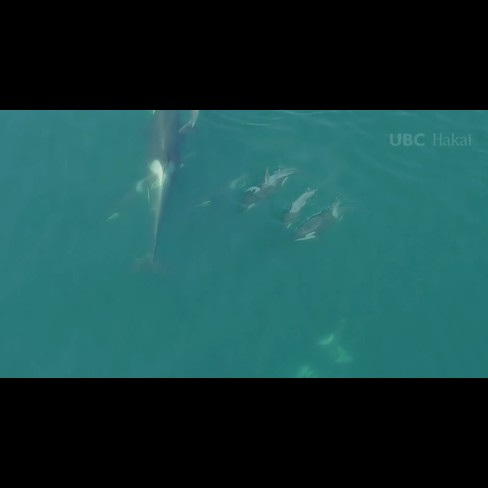orca: (129, 110, 192, 268)
